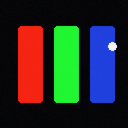0 point: (108, 42, 116, 50)
